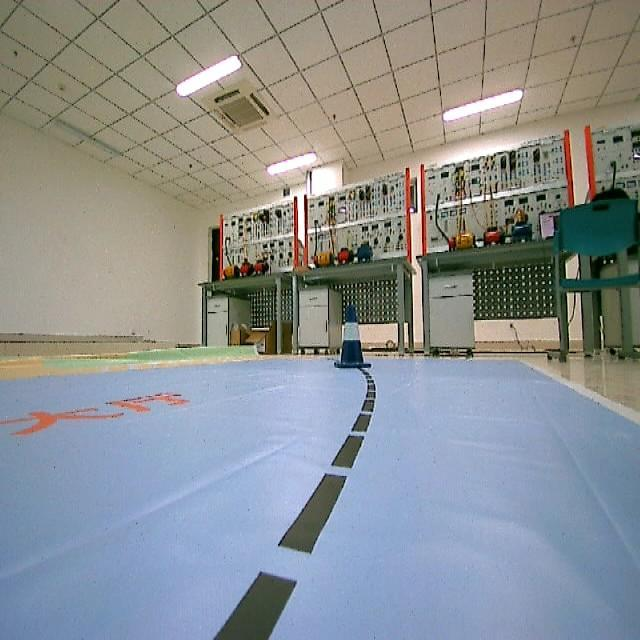obstacle: (328, 300, 376, 373)
